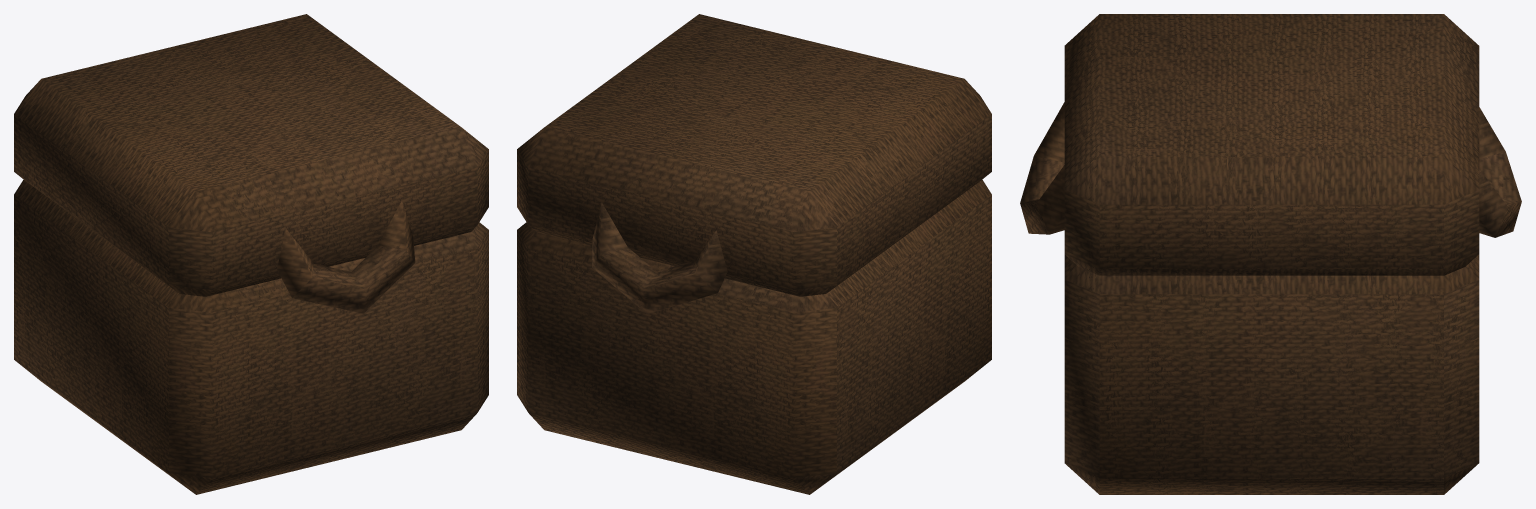
Rendered from Tropics Wicker Crate 1x1.fbx.
3 views of the same model, side by side, from view 1: azimuth 30°, elevation 25°; view 2: azimuth 150°, elevation 25°; view 3: azimuth 270°, elevation 25° (orthographic). The views are drawn at different scales.
Parts seen in each view (by area): view 1: 1x1 Crate; view 2: 1x1 Crate; view 3: 1x1 Crate.
Part boxes in pixels (x1,y1,x2,y2): 1x1 Crate: [14, 14, 488, 494]; 1x1 Crate: [517, 14, 991, 494]; 1x1 Crate: [1020, 14, 1521, 494].
Bounding box in the file's own units: 457 × 413 × 558.
